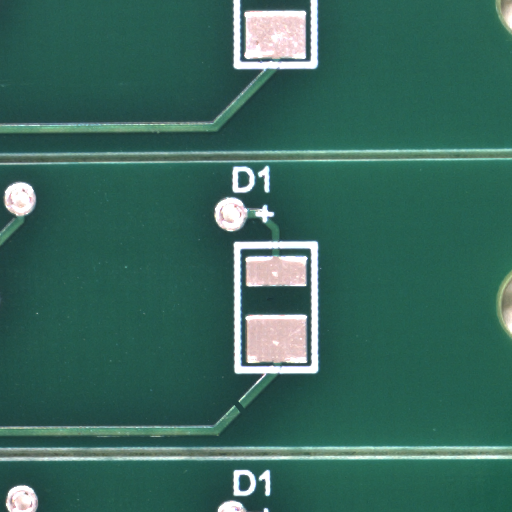Open_circuit: (239, 407, 251, 421)
